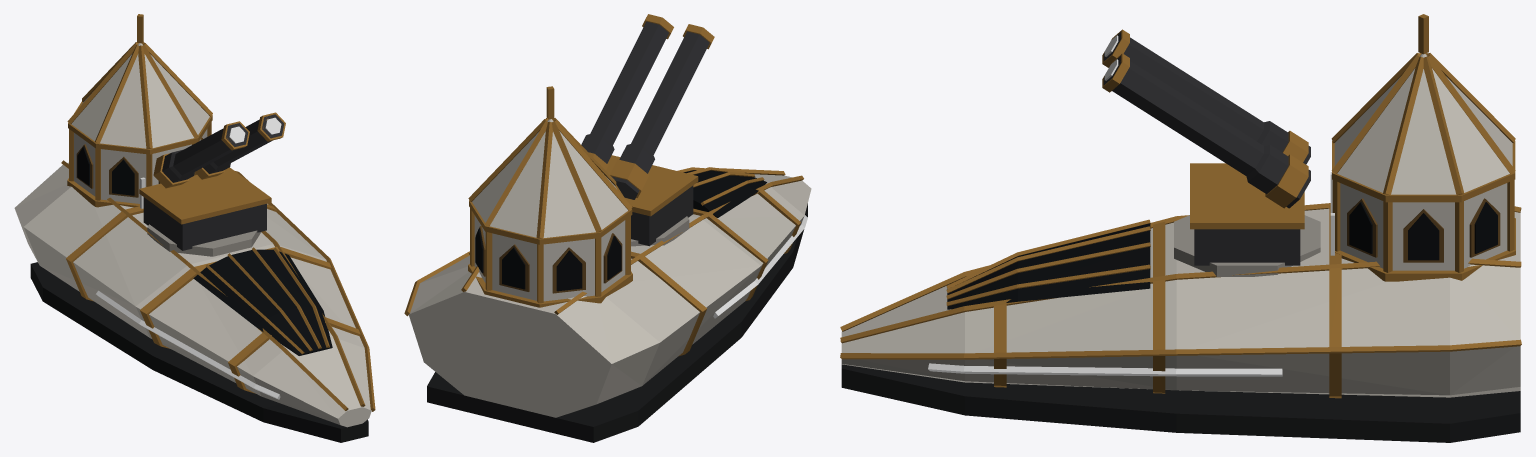
The model's file is artillery_t2.glb.
The picture shows the model from 3 angles, left to right: view 1: azimuth 30°, elevation 25°; view 2: azimuth 150°, elevation 25°; view 3: azimuth 270°, elevation 25°; orthographic projection. The views are drawn at different scales.
Visible parts, largest first — view 1: body, top; view 2: body, top; view 3: body, top.
Part boxes in pixels (left/top/right/bottom): body: left=14, top=14, right=375, bottom=442; top: left=139, top=112, right=285, bottom=250; body: left=404, top=86, right=811, bottom=442; top: left=581, top=14, right=714, bottom=246; body: left=840, top=14, right=1521, bottom=442; top: left=1102, top=29, right=1310, bottom=265.
Bounding box in the file's own units: 3.86 × 4.66 × 7.73.
